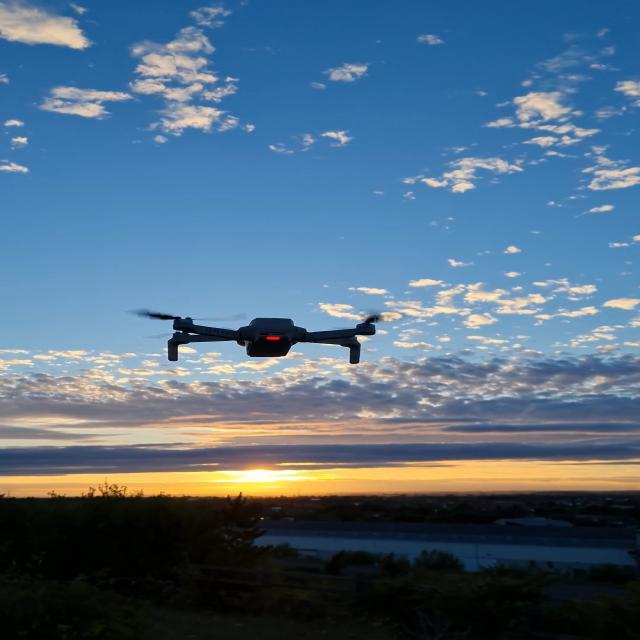Drone: (100, 282, 420, 361)
